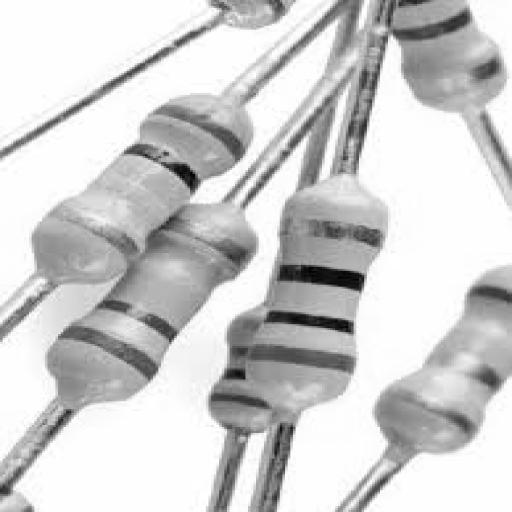RESISTOR: (0, 63, 315, 294), (176, 180, 404, 424), (26, 206, 293, 414), (353, 245, 512, 467), (189, 298, 345, 448), (348, 8, 512, 121)
